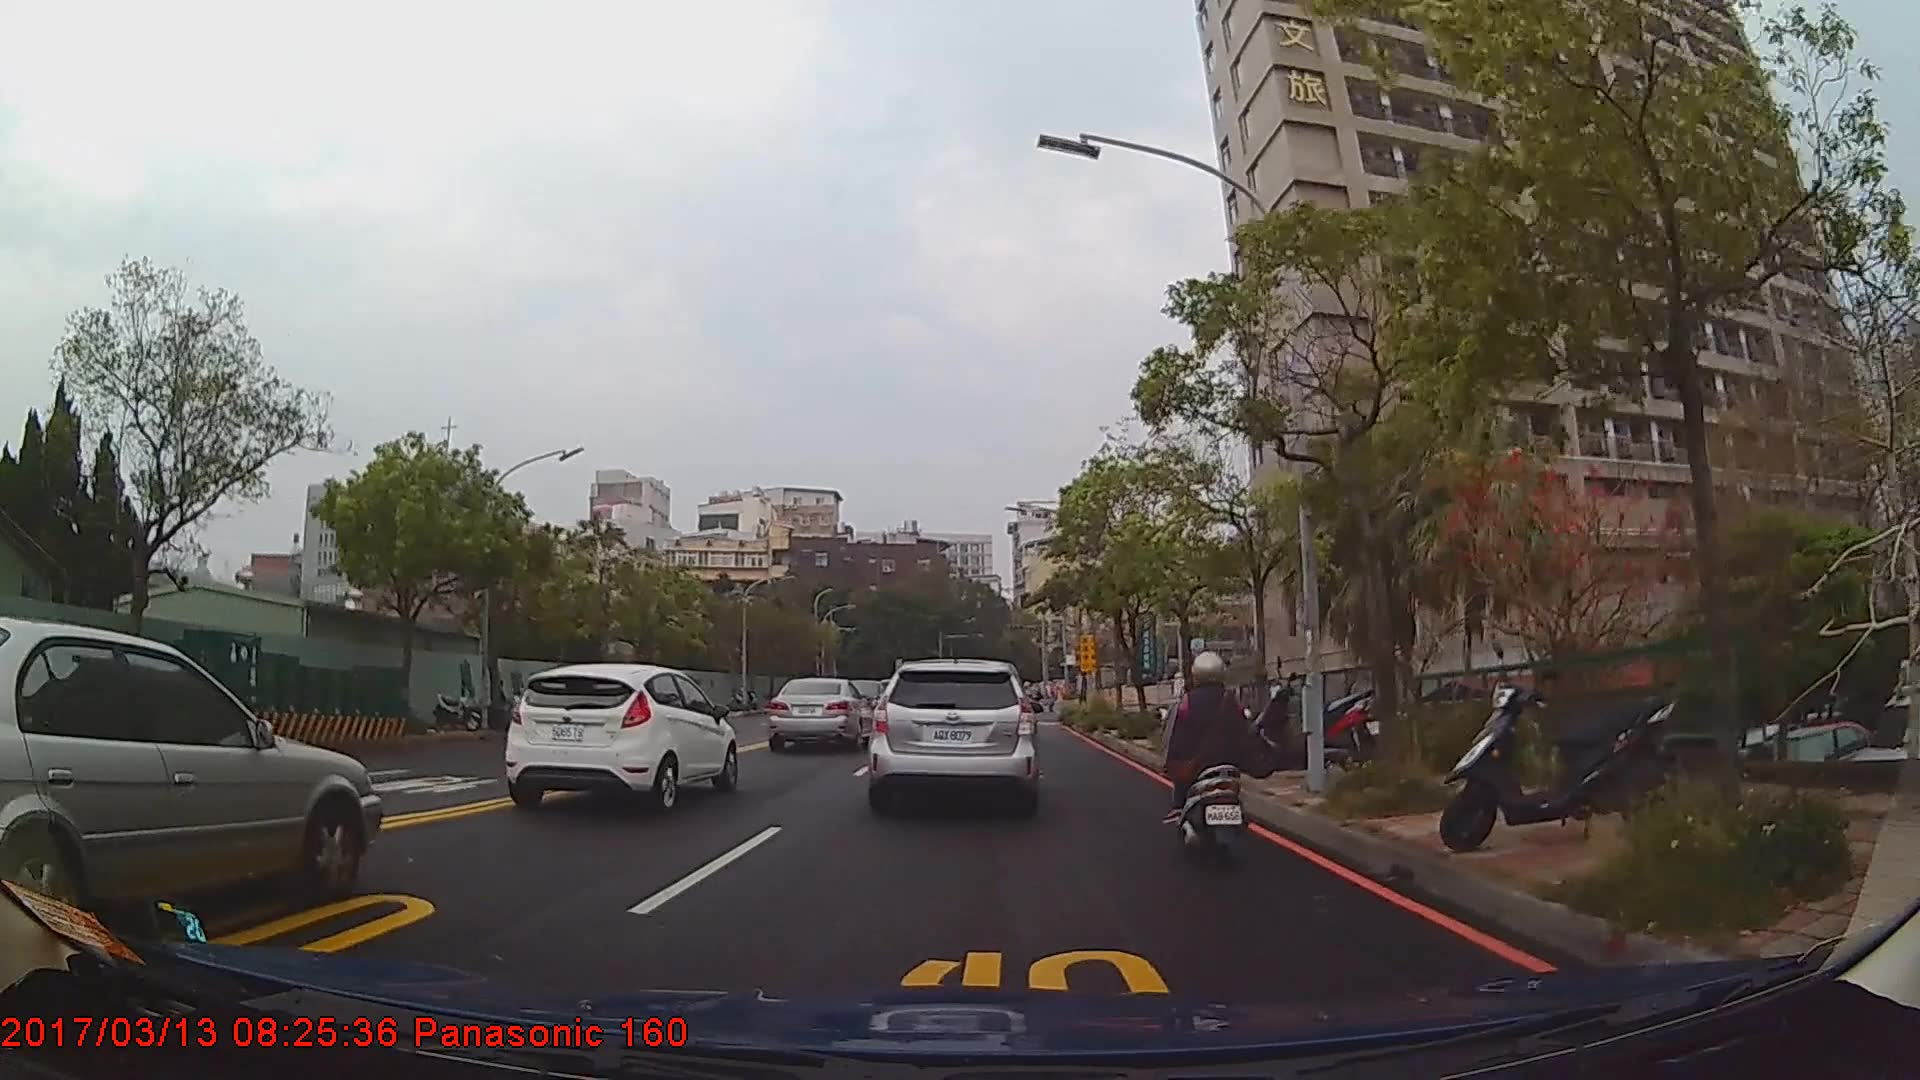rider: (1161, 650, 1248, 867)
vehicle: (0, 613, 380, 938), (503, 661, 736, 817), (868, 657, 1038, 817), (768, 674, 874, 754)
